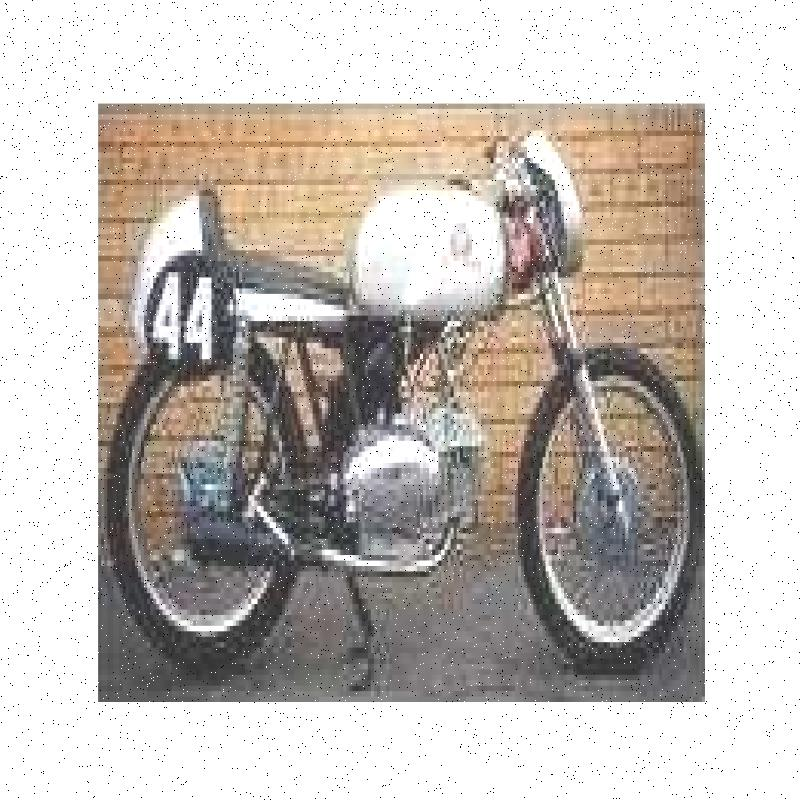bike: (97, 104, 691, 692)
